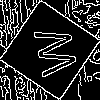W: (25, 25, 78, 80)
